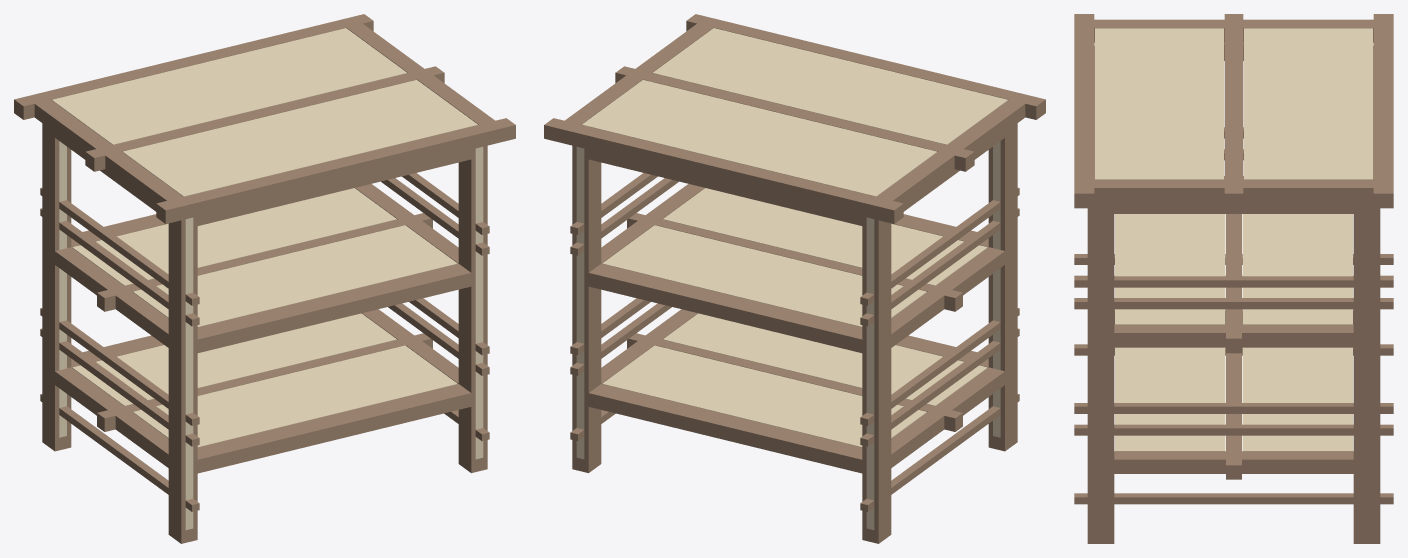
3 renders of one model, left to right at view 1: azimuth 30°, elevation 25°; view 2: azimuth 150°, elevation 25°; view 3: azimuth 270°, elevation 25°, orthographic. The views are drawn at different scales.
Parts seen in each view (by area): view 1: P077 Top plain maple panel, P076 Top plain maple panel, P044 Lower plain maple panel, P053 Middle plain maple panel, P054 Middle plain maple panel, P045 Lower plain maple panel, P069 Top projecting front/back border, P037 Lower front/back rail, P046 Middle front/back rail, P002 Leg 11 walnut cheek, P011 Leg 12 walnut cheek, P020 Leg 21 walnut cheek (+35 smaller); view 2: P076 Top plain maple panel, P077 Top plain maple panel, P045 Lower plain maple panel, P054 Middle plain maple panel, P053 Middle plain maple panel, P044 Lower plain maple panel, P070 Top projecting front/back border, P038 Lower front/back rail, P047 Middle front/back rail, P011 Leg 12 walnut cheek, P002 Leg 11 walnut cheek, P029 Leg 22 walnut cheek (+35 smaller); view 3: P076 Top plain maple panel, P077 Top plain maple panel, P053 Middle plain maple panel, P054 Middle plain maple panel, P044 Lower plain maple panel, P045 Lower plain maple panel, P021 Leg 21 walnut cheek, P030 Leg 22 walnut cheek, P069 Top projecting front/back border, P070 Top projecting front/back border, P075 Top projecting crossbar, P060 Through side bar with exposed ends (+17 smaller).
Boxes of the visible parts, bbox=[...] form: P077 Top plain maple panel: bbox=[52, 28, 406, 144]; P076 Top plain maple panel: bbox=[123, 80, 477, 196]; P044 Lower plain maple panel: bbox=[133, 345, 457, 447]; P053 Middle plain maple panel: bbox=[133, 225, 457, 326]; P054 Middle plain maple panel: bbox=[72, 188, 396, 285]; P045 Lower plain maple panel: bbox=[72, 313, 396, 405]; P069 Top projecting front/back border: bbox=[156, 118, 515, 223]; P037 Lower front/back rail: bbox=[197, 384, 471, 473]; P046 Middle front/back rail: bbox=[197, 263, 471, 352]; P002 Leg 11 walnut cheek: bbox=[168, 219, 185, 531]; P011 Leg 12 walnut cheek: bbox=[42, 123, 59, 438]; P020 Leg 21 walnut cheek: bbox=[458, 148, 475, 460]; P076 Top plain maple panel: bbox=[653, 28, 1007, 144]; P077 Top plain maple panel: bbox=[582, 80, 936, 196]; P045 Lower plain maple panel: bbox=[602, 345, 926, 447]; P054 Middle plain maple panel: bbox=[602, 225, 926, 326]; P053 Middle plain maple panel: bbox=[663, 188, 987, 285]; P044 Lower plain maple panel: bbox=[663, 313, 987, 405]; P070 Top projecting front/back border: bbox=[544, 118, 903, 223]; P038 Lower front/back rail: bbox=[588, 384, 862, 473]; P047 Middle front/back rail: bbox=[588, 263, 862, 352]; P011 Leg 12 walnut cheek: bbox=[874, 219, 891, 531]; P002 Leg 11 walnut cheek: bbox=[1000, 123, 1017, 438]; P029 Leg 22 walnut cheek: bbox=[584, 148, 601, 460]; P076 Top plain maple panel: bbox=[1095, 28, 1223, 179]; P077 Top plain maple panel: bbox=[1244, 28, 1372, 179]; P053 Middle plain maple panel: bbox=[1115, 214, 1225, 324]; P054 Middle plain maple panel: bbox=[1242, 214, 1352, 324]; P044 Lower plain maple panel: bbox=[1115, 347, 1225, 451]; P045 Lower plain maple panel: bbox=[1242, 347, 1352, 451]; P021 Leg 21 walnut cheek: bbox=[1087, 202, 1114, 530]; P030 Leg 22 walnut cheek: bbox=[1353, 202, 1380, 530]; P069 Top projecting front/back border: bbox=[1074, 14, 1094, 208]; P070 Top projecting front/back border: bbox=[1373, 14, 1393, 208]; P075 Top projecting crossbar: bbox=[1224, 14, 1243, 208]; P060 Through side bar with exposed ends: bbox=[1074, 493, 1393, 504].
Bounding box in the file's own units: 0.64 × 0.6 × 0.48.
